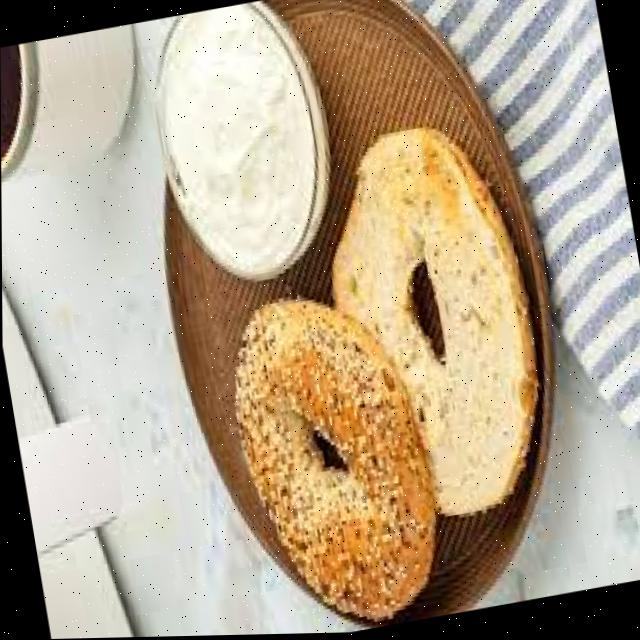Bagel: (332, 129, 538, 517), (236, 302, 434, 620)
